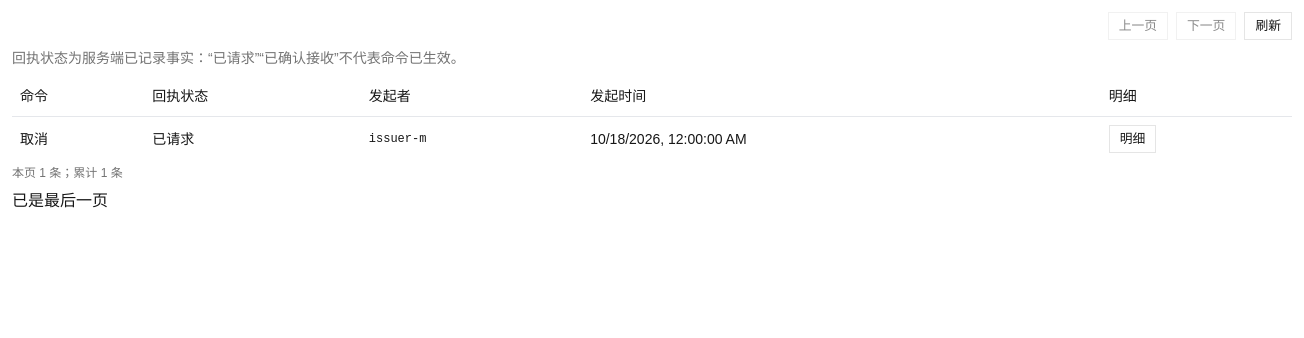
Test case: TaskCommandsPanel › marks missing optional fields explicitly
Expected: the element with test id "task-commands-table" is shown, [12,48,1292,180]
Click the button with test id "task-command-expand": (1133, 138) [1109,124,1156,152]
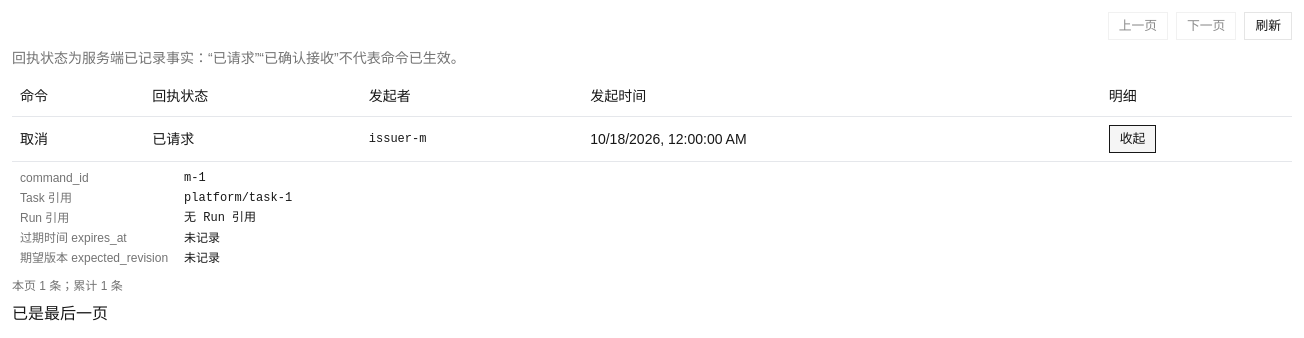
Expected: the text with test id "task-command-run-ref" reads "无 Run 引用", [184,210,256,224]
Expected: the text with test id "task-command-expires" reads "未记录", [184,230,220,244]
Expected: the text with test id "task-command-revision" reads "未记录", [184,250,220,264]
